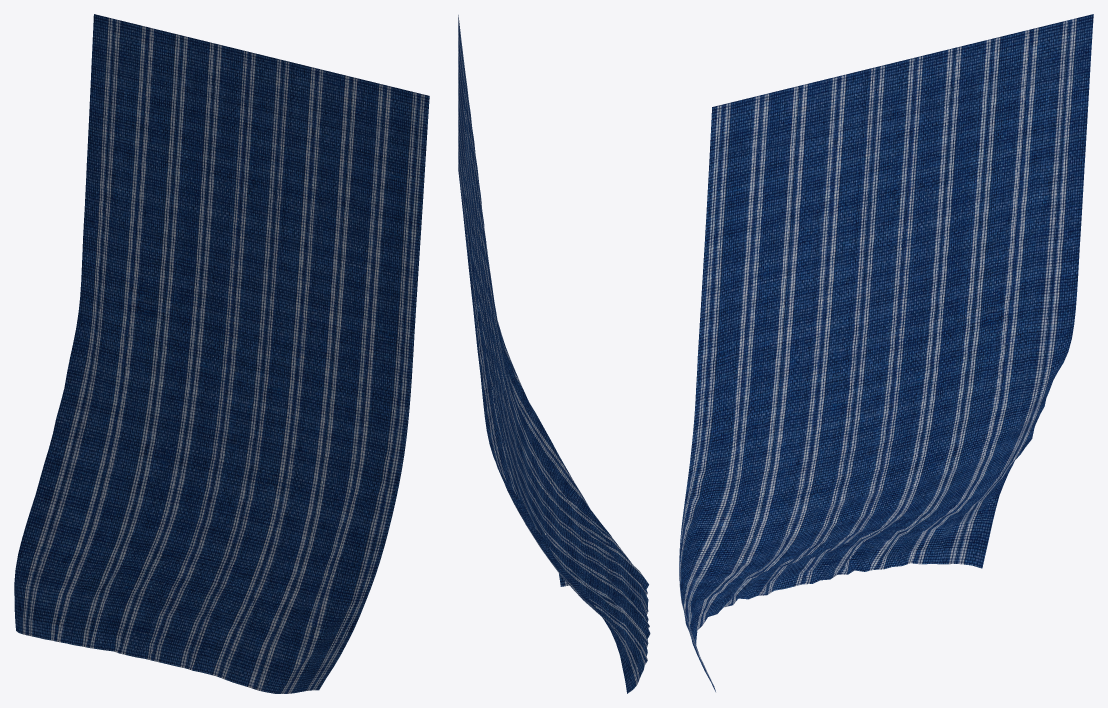
File: chongming-handwoven-cloth-finished.web.glb
3 views of the same model, side by side, from view 1: azimuth 30°, elevation 25°; view 2: azimuth 150°, elevation 25°; view 3: azimuth 270°, elevation 25° (orthographic). The views are drawn at different scales.
Parts seen in each view (by area): view 1: 平面.002; view 2: 平面.002; view 3: 平面.002.
Boxes of the visible parts, x1=… form: 平面.002: x1=14, y1=14, x2=429, y2=693; 平面.002: x1=458, y1=15, x2=650, y2=693; 平面.002: x1=679, y1=14, x2=1093, y2=691.
Size of the model in its own units: 1.77 by 3.24 by 1.88.
1 material, 1 textured.
